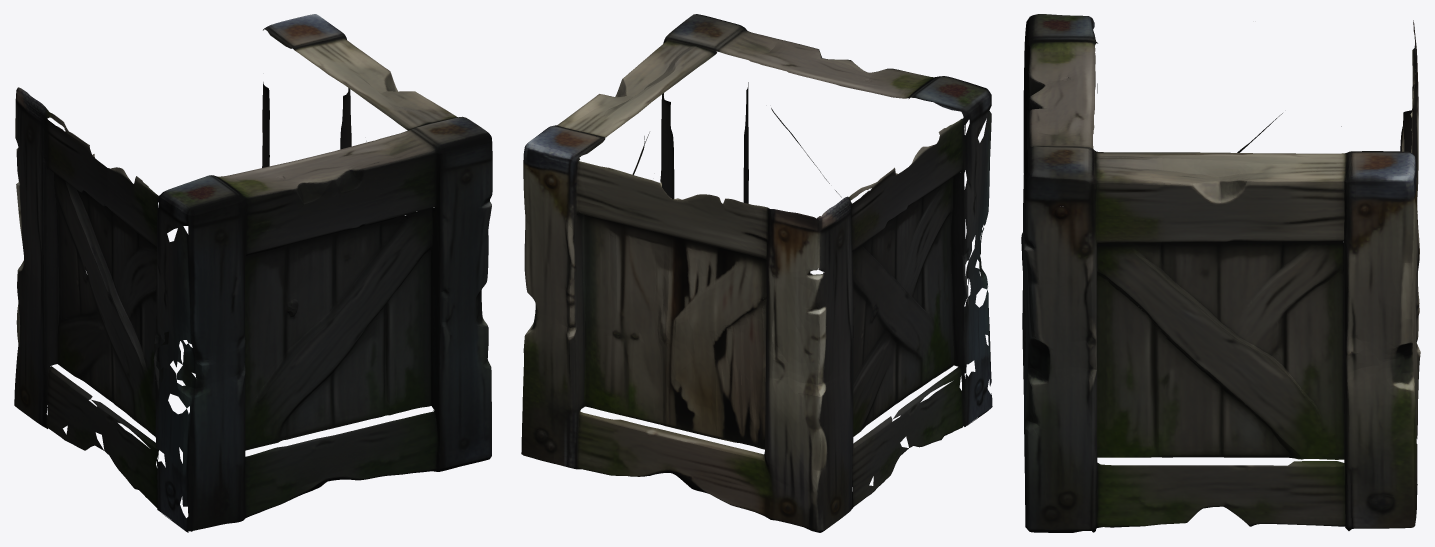
Rendered from crate_wood_b.glb.
3 views of the same model, side by side, from view 1: azimuth 30°, elevation 25°; view 2: azimuth 150°, elevation 25°; view 3: azimuth 270°, elevation 25° (orthographic). The views are drawn at different scales.
Parts seen in each view (by area): view 1: world; view 2: world; view 3: world.
Boxes of the visible parts, box(x1,y1,x2,y2) form: world: box(14, 14, 492, 532); world: box(521, 14, 992, 532); world: box(1021, 14, 1420, 532).
Bounding box in the file's own units: 0.9897 × 0.994 × 0.9917.
1 material, 1 textured.
